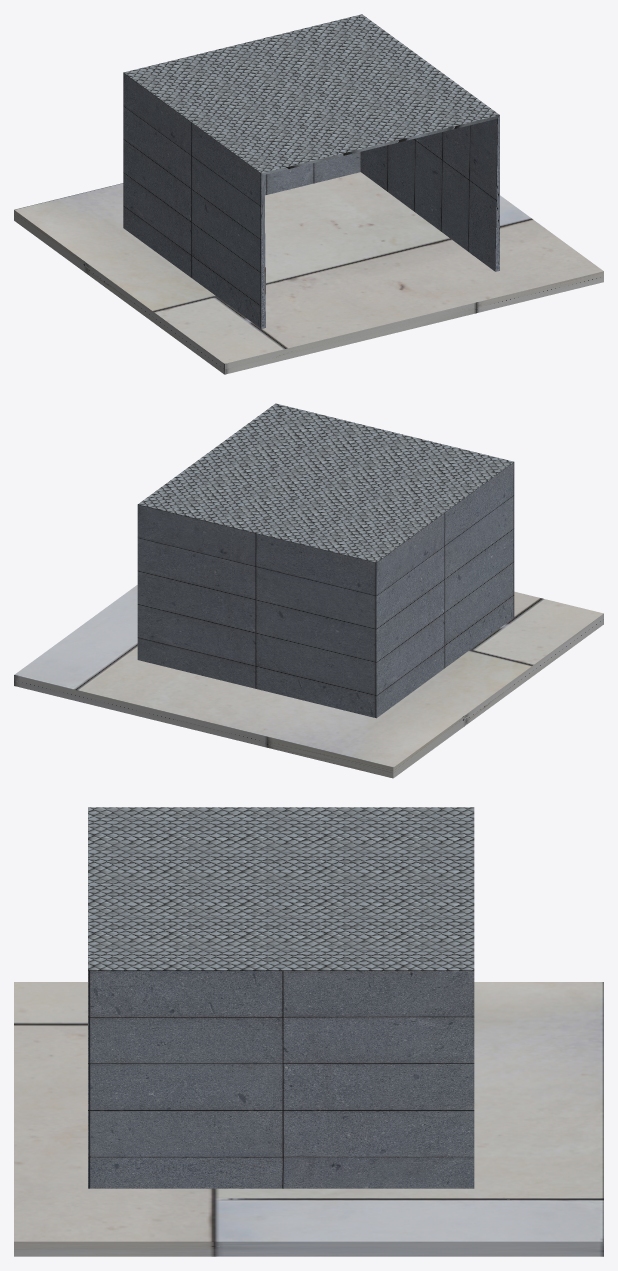
File: arena chess.gltf
3 renders of one model, top to bottom at view 1: azimuth 30°, elevation 25°; view 2: azimuth 150°, elevation 25°; view 3: azimuth 270°, elevation 25°, orthographic. The views are drawn at different scales.
Visible parts, largest first — view 1: Cube, Cube.001; view 2: Cube, Cube.001; view 3: Cube, Cube.001.
Boxes of the visible parts, left/top/right/bottom form: Cube: left=123, top=14, right=499, bottom=328; Cube.001: left=14, top=172, right=603, bottom=374; Cube: left=137, top=403, right=514, bottom=718; Cube.001: left=14, top=585, right=603, bottom=778; Cube: left=88, top=807, right=474, bottom=1188; Cube.001: left=14, top=982, right=603, bottom=1256.
Bounding box in the file's own units: 47.67 × 20.01 × 45.83.
Materials: 5 (5 with a texture image).
